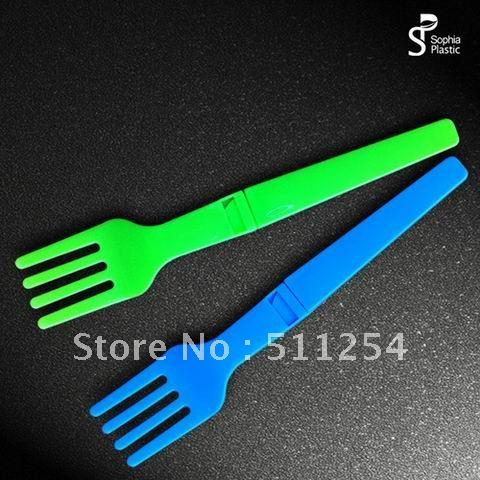Fork: (89, 155, 468, 468), (15, 119, 459, 329)
